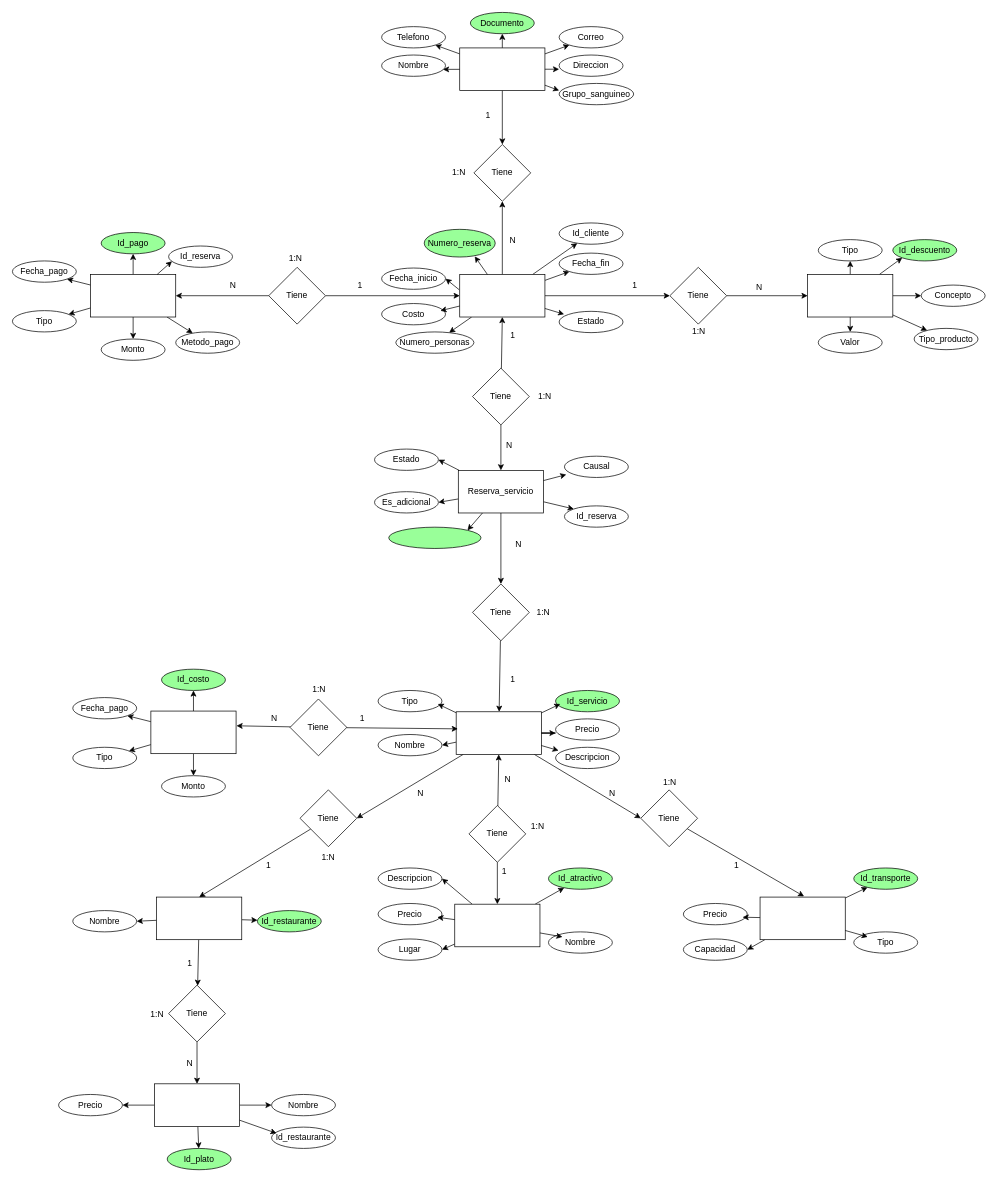
The diagram is 998 pixels wide and 1182 high, and some of its shapes have lost their labels. Each missing label, with the box of its shape:
Atractivo: (454, 903, 540, 947)
Cliente: (459, 47, 545, 91)
Costo operativo: (150, 710, 236, 754)
Descuento: (807, 274, 893, 317)
Id_reserva_servicio: (388, 526, 481, 548)
Pago: (90, 274, 176, 317)
Plato: (154, 1083, 240, 1126)
Reserva: (459, 274, 545, 317)
Restaurante: (156, 896, 242, 940)
Servicio: (455, 711, 541, 754)
Transporte: (759, 896, 845, 940)
